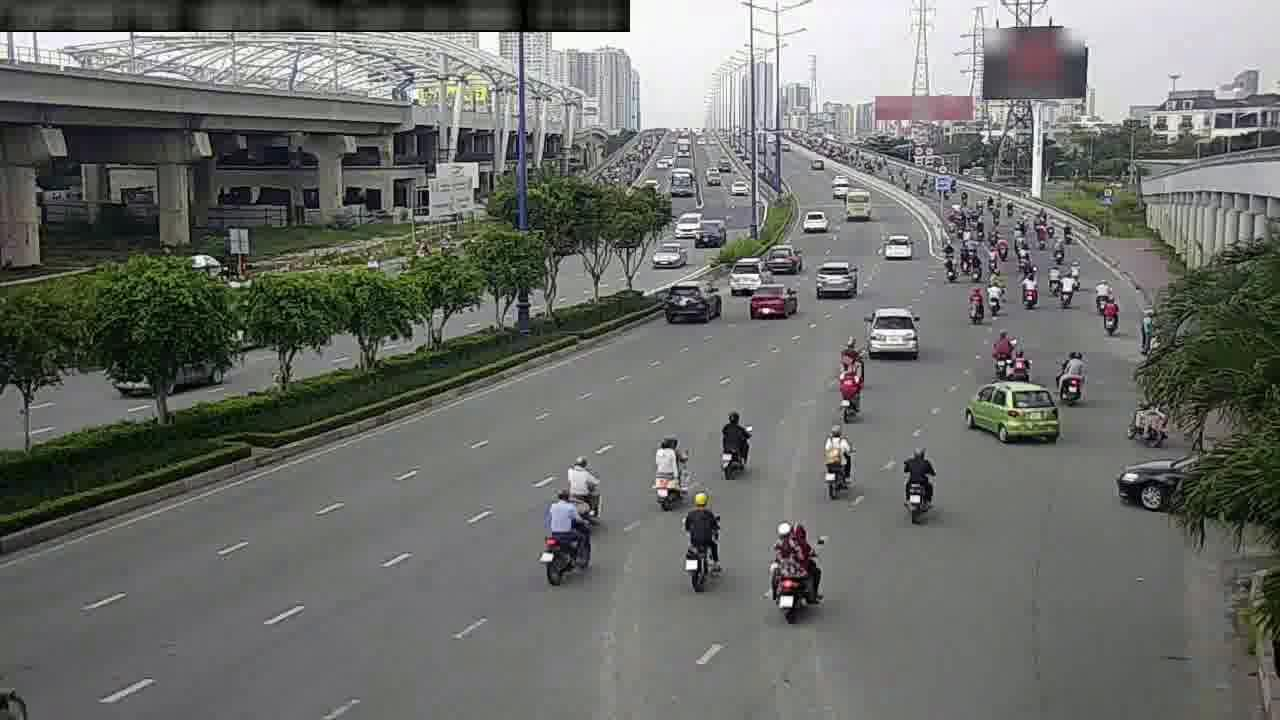car: (860, 303, 925, 363), (661, 277, 722, 327), (744, 278, 800, 323), (808, 264, 861, 300), (760, 236, 804, 275), (723, 255, 767, 293)
motorbike: (531, 484, 599, 585), (760, 525, 825, 621), (969, 384, 1058, 446), (675, 500, 728, 589), (887, 441, 942, 524), (708, 405, 758, 480), (641, 429, 690, 504), (811, 427, 859, 500), (559, 451, 607, 520), (1121, 387, 1172, 447), (827, 366, 865, 421), (1053, 349, 1090, 402), (827, 332, 864, 380), (1096, 293, 1127, 336), (959, 284, 989, 325), (987, 327, 1011, 374), (1051, 274, 1078, 313), (1014, 273, 1040, 313), (982, 278, 1008, 316), (1012, 340, 1031, 380)
